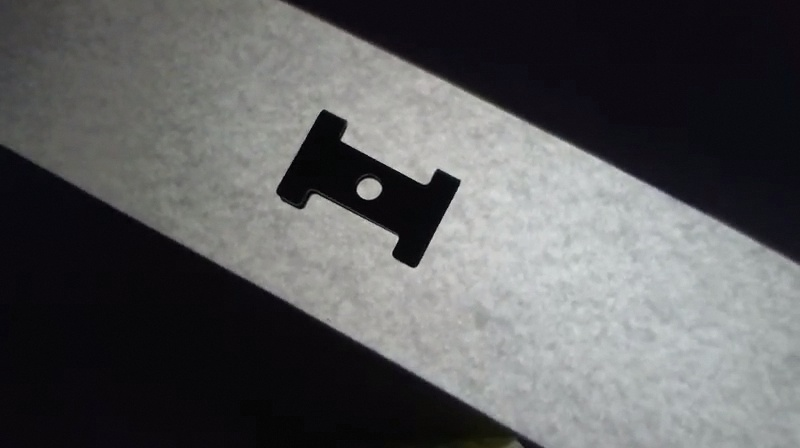O002: (276, 106, 463, 269)
